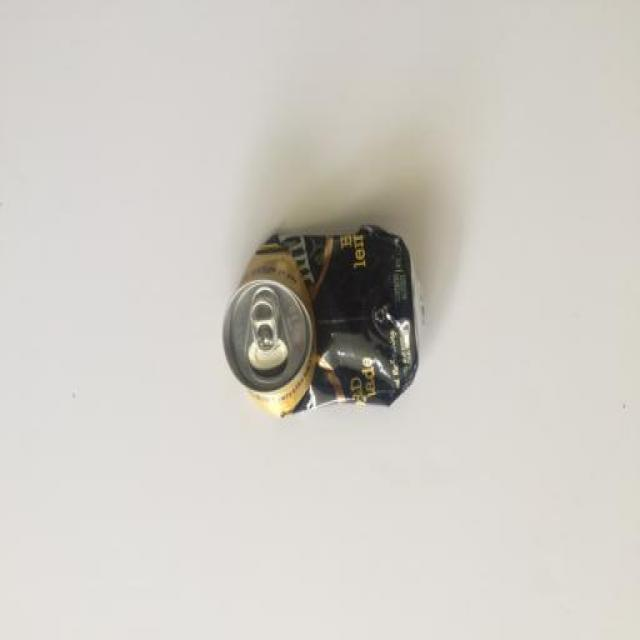metel: (216, 215, 437, 442)
